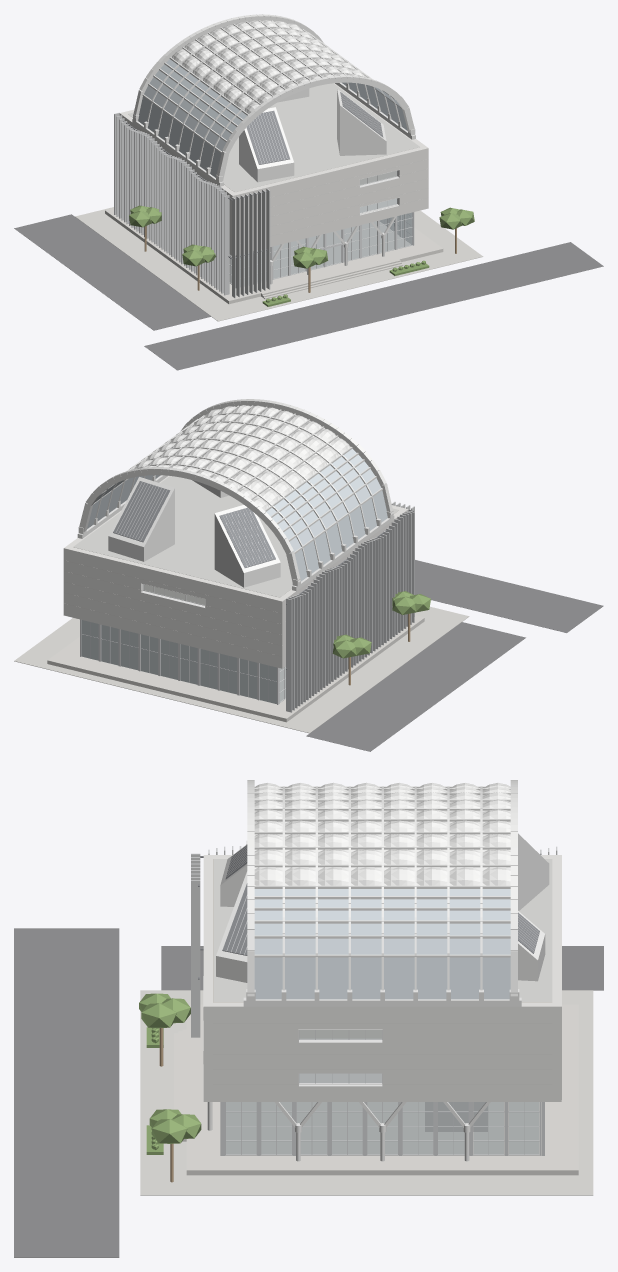
The model's file is clay-vaulted-lecture-hall-clay-v002.glb.
3 renders of one model, top to bottom at view 1: azimuth 30°, elevation 25°; view 2: azimuth 150°, elevation 25°; view 3: azimuth 270°, elevation 25°, orthographic. The views are drawn at different scales.
Parts seen in each view (by area): view 1: CLAY_ASPHALT, CLAY_FIN, CLAY_WHITE, CLAY_WALL, CLAY_MEMBRANE, CLAY_STONE, CLAY_SAND, CLAY_ROOF, CLAY_VGLASS, CLAY_GLASS, CLAY_PLANTING, CLAY_LOUVRE (+2 smaller); view 2: CLAY_WHITE, CLAY_ASPHALT, CLAY_WALL, CLAY_FIN, CLAY_MEMBRANE, CLAY_VGLASS, CLAY_TRIM, CLAY_SAND, CLAY_GLASS, CLAY_ROOF, CLAY_STONE, CLAY_LOUVRE (+2 smaller); view 3: CLAY_ASPHALT, CLAY_WALL, CLAY_STONE, CLAY_WHITE, CLAY_VGLASS, CLAY_MEMBRANE, CLAY_SAND, CLAY_GLASS, CLAY_TRIM, CLAY_ROOF, CLAY_PLANTING, CLAY_FIN (+3 smaller).
Boxes of the visible parts, <box> form: CLAY_ASPHALT: <box>14,214,603,370</box>; CLAY_FIN: <box>114,93,382,298</box>; CLAY_WHITE: <box>132,14,415,284</box>; CLAY_WALL: <box>119,83,428,255</box>; CLAY_MEMBRANE: <box>171,20,368,113</box>; CLAY_STONE: <box>105,208,443,304</box>; CLAY_SAND: <box>75,207,483,321</box>; CLAY_ROOF: <box>128,83,419,192</box>; CLAY_VGLASS: <box>138,59,407,177</box>; CLAY_GLASS: <box>229,171,412,286</box>; CLAY_PLANTING: <box>129,205,474,306</box>; CLAY_LOUVRE: <box>246,92,383,164</box>; CLAY_WHITE: <box>77,399,394,608</box>; CLAY_ASPHALT: <box>306,560,603,751</box>; CLAY_WALL: <box>63,476,408,668</box>; CLAY_FIN: <box>116,481,414,712</box>; CLAY_MEMBRANE: <box>130,405,350,510</box>; CLAY_VGLASS: <box>87,449,387,581</box>; CLAY_TRIM: <box>80,584,285,704</box>; CLAY_SAND: <box>14,606,469,733</box>; CLAY_GLASS: <box>81,584,285,703</box>; CLAY_ROOF: <box>73,476,398,597</box>; CLAY_STONE: <box>47,615,424,722</box>; CLAY_LOUVRE: <box>113,481,275,567</box>; CLAY_ASPHALT: <box>14,928,603,1257</box>; CLAY_WALL: <box>203,855,561,1131</box>; CLAY_STONE: <box>174,1004,578,1175</box>; CLAY_WHITE: <box>203,780,549,1161</box>; CLAY_VGLASS: <box>254,889,510,999</box>; CLAY_MEMBRANE: <box>254,782,510,885</box>; CLAY_SAND: <box>140,990,593,1195</box>; CLAY_GLASS: <box>226,1030,539,1154</box>; CLAY_TRIM: <box>220,1030,544,1155</box>; CLAY_ROOF: <box>213,859,552,1002</box>; CLAY_PLANTING: <box>139,993,201,1154</box>; CLAY_FIN: <box>191,846,557,1037</box>.
Bounding box in the file's own units: 74 × 30.45 × 56.
